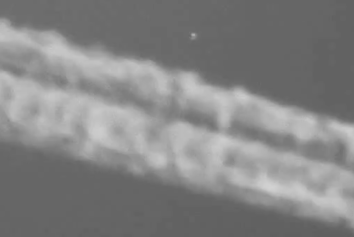Target: (191, 34, 194, 36)
